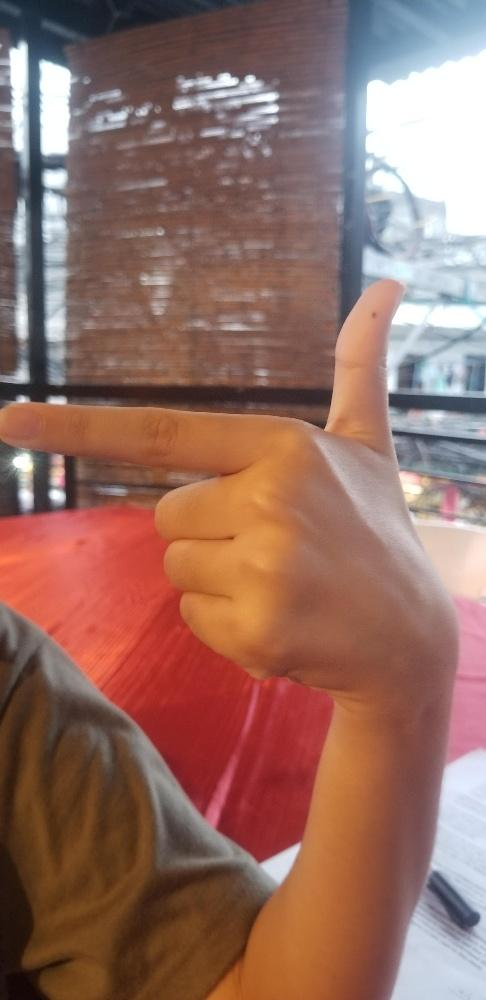g: (0, 276, 463, 691)
